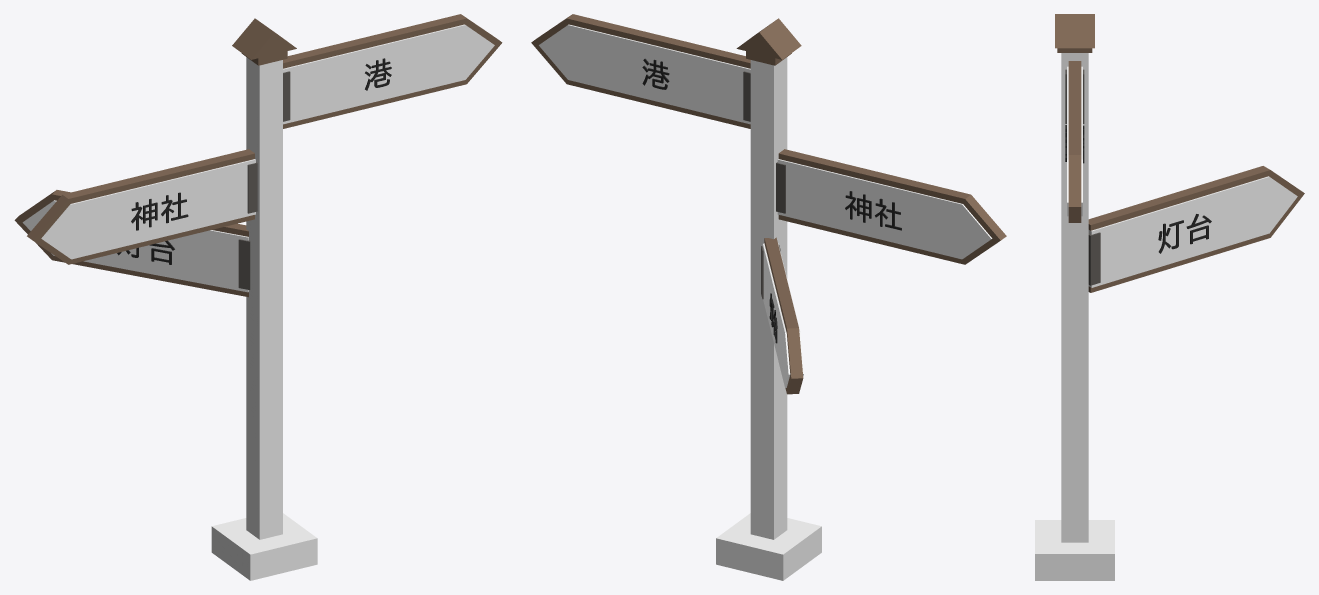
Rendered from direction_sign.glb.
3 views of the same model, side by side, from view 1: azimuth 30°, elevation 25°; view 2: azimuth 150°, elevation 25°; view 3: azimuth 270°, elevation 25° (orthographic). The views are drawn at different scales.
Visible parts, largest first — view 1: direction_sign_body; view 2: direction_sign_body; view 3: direction_sign_body.
Boxes of the visible parts, bbox=[...] form: direction_sign_body: bbox=[14, 14, 502, 580]; direction_sign_body: bbox=[531, 14, 1006, 580]; direction_sign_body: bbox=[1035, 14, 1304, 580].
Size of what is drawn, in the model's own units: 2.24 by 2.43 by 1.08.
